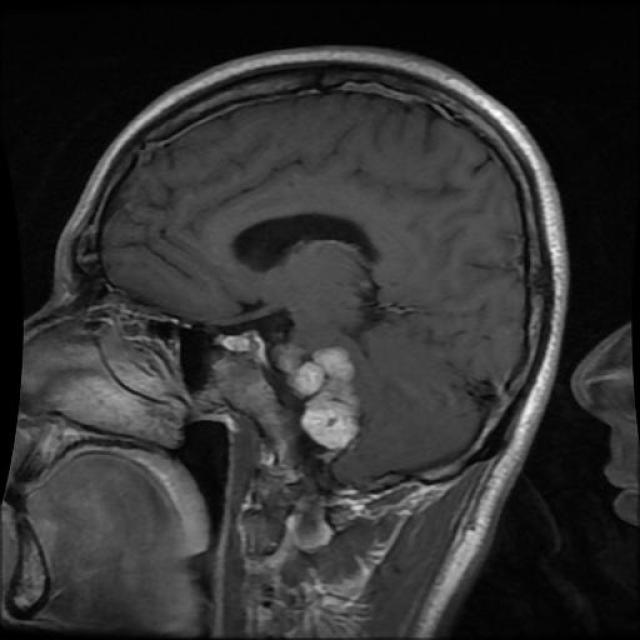meningioma: (296, 351, 359, 452)
